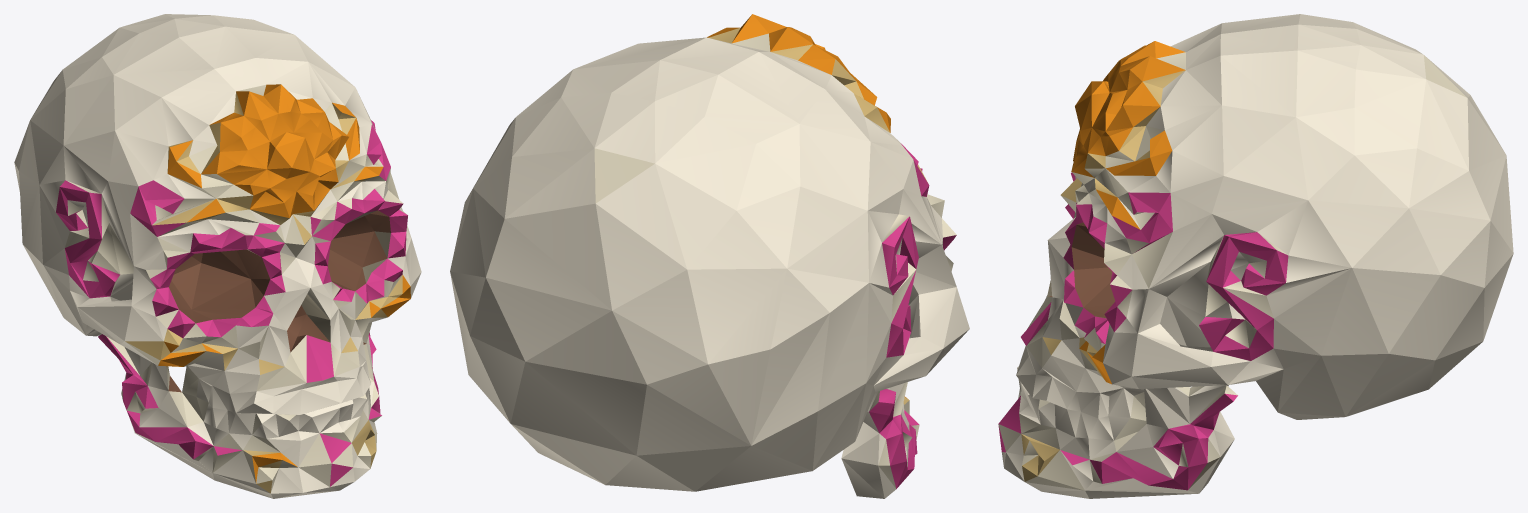
The model's file is sugar_skull.glb.
The picture shows the model from 3 angles, left to right: view 1: azimuth 30°, elevation 25°; view 2: azimuth 150°, elevation 25°; view 3: azimuth 270°, elevation 25°; orthographic projection. The views are drawn at different scales.
Visible parts, largest first — view 1: Mesh_0; view 2: Mesh_0; view 3: Mesh_0.
Boxes of the visible parts, <box> form: Mesh_0: <box>14,14,421,498</box>; Mesh_0: <box>450,14,969,498</box>; Mesh_0: <box>998,14,1513,498</box>.
Bounding box in the file's own units: 0.2 × 0.22 × 0.24.
